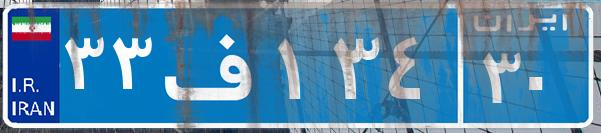0: (525, 38, 570, 115)
1: (273, 28, 330, 110)
3: (330, 28, 385, 110), (57, 26, 110, 107), (475, 38, 525, 113), (110, 28, 158, 105)
4: (385, 28, 445, 110)
ف: (158, 15, 273, 115)
